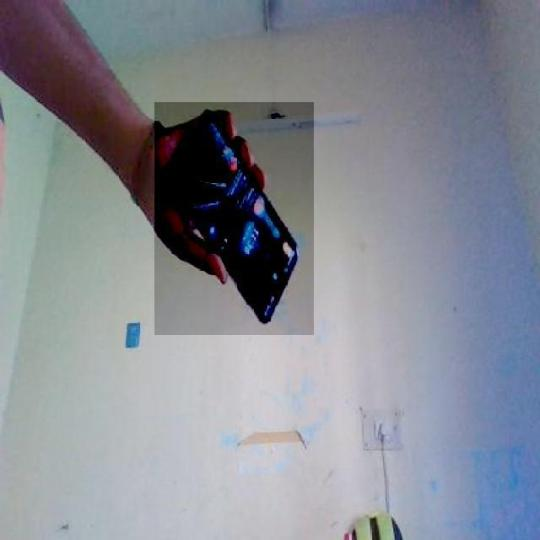phone: (154, 108, 322, 337)
